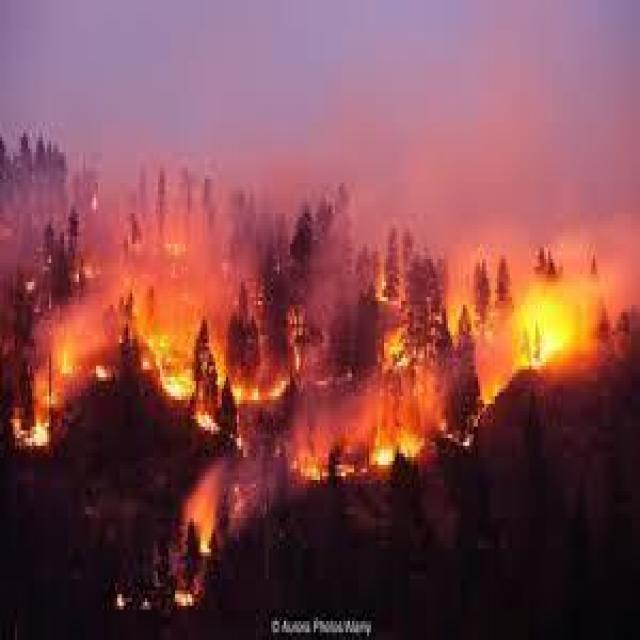Fire: (475, 261, 613, 423), (278, 388, 447, 489), (129, 304, 236, 452)
